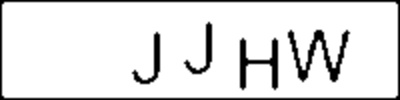H: (238, 34, 284, 93)
J: (126, 29, 165, 88), (181, 19, 218, 77)
W: (285, 24, 353, 83)
